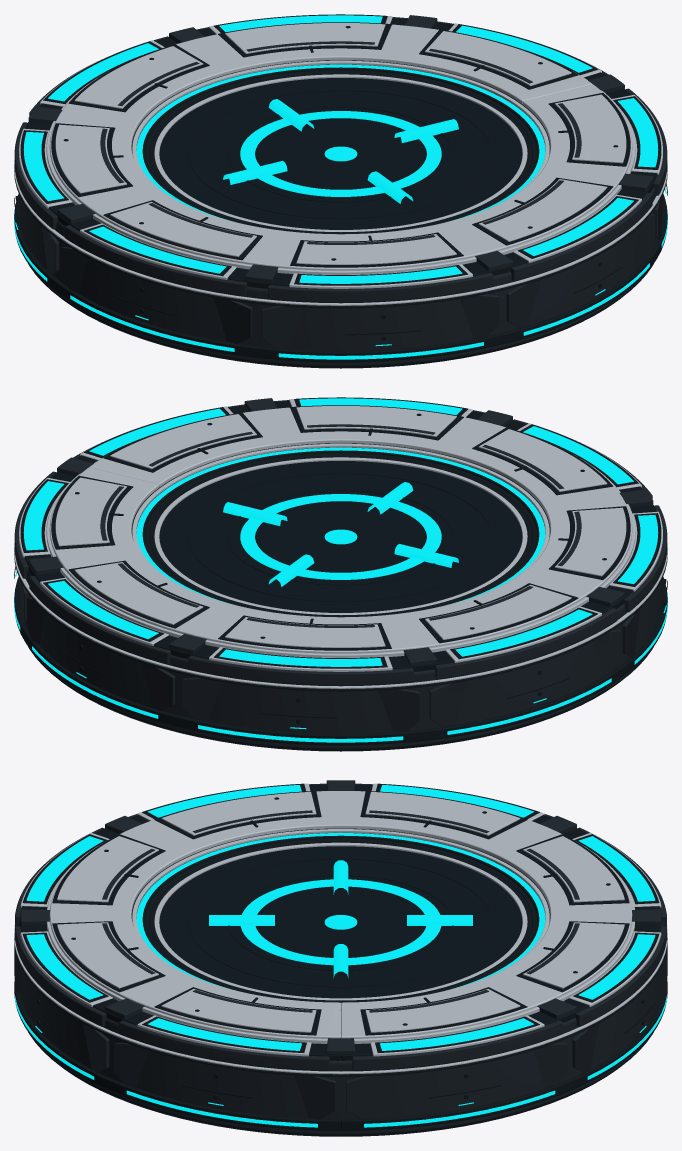
The model's file is Striker.fbx.
3 renders of one model, top to bottom at view 1: azimuth 30°, elevation 25°; view 2: azimuth 150°, elevation 25°; view 3: azimuth 270°, elevation 25°, orthographic.
Visible parts, largest first — view 1: SM_Puck_Striker; view 2: SM_Puck_Striker; view 3: SM_Puck_Striker.
Part boxes in pixels (<box>): SM_Puck_Striker: <box>14,14,667,368</box>; SM_Puck_Striker: <box>14,397,667,751</box>; SM_Puck_Striker: <box>14,780,667,1136</box>.
Size of the model in its own units: 82.72 by 82.72 by 13.39.
